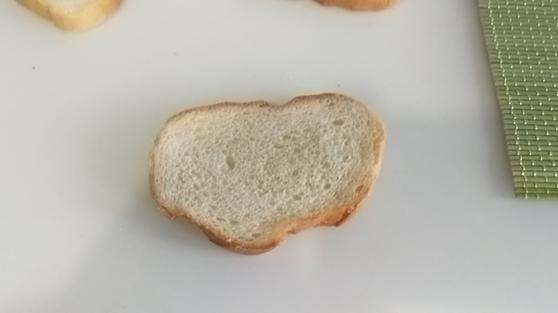white_bread: (150, 92, 390, 256)
